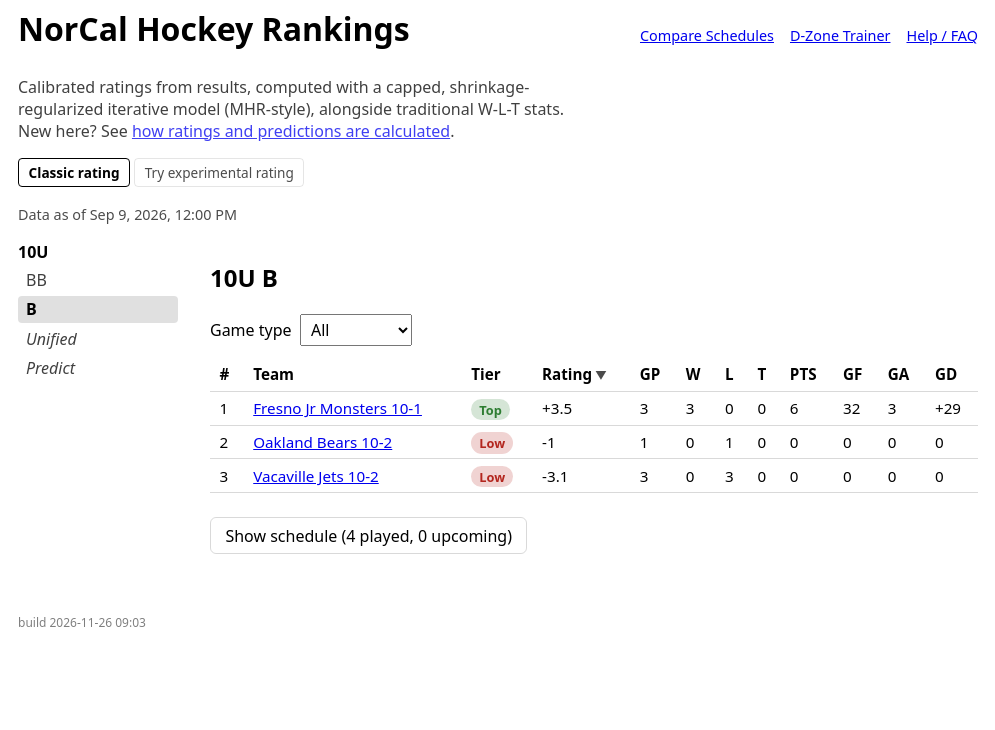
Test: App › keeps the rating mode toggle site-wide when navigating between divisions
Expected: the link "Fresno Jr Monsters 10-1" is shown, [253,398,422,418]
Click the button "Try experimental rating" at point(219, 172), box [134,158,304,187]
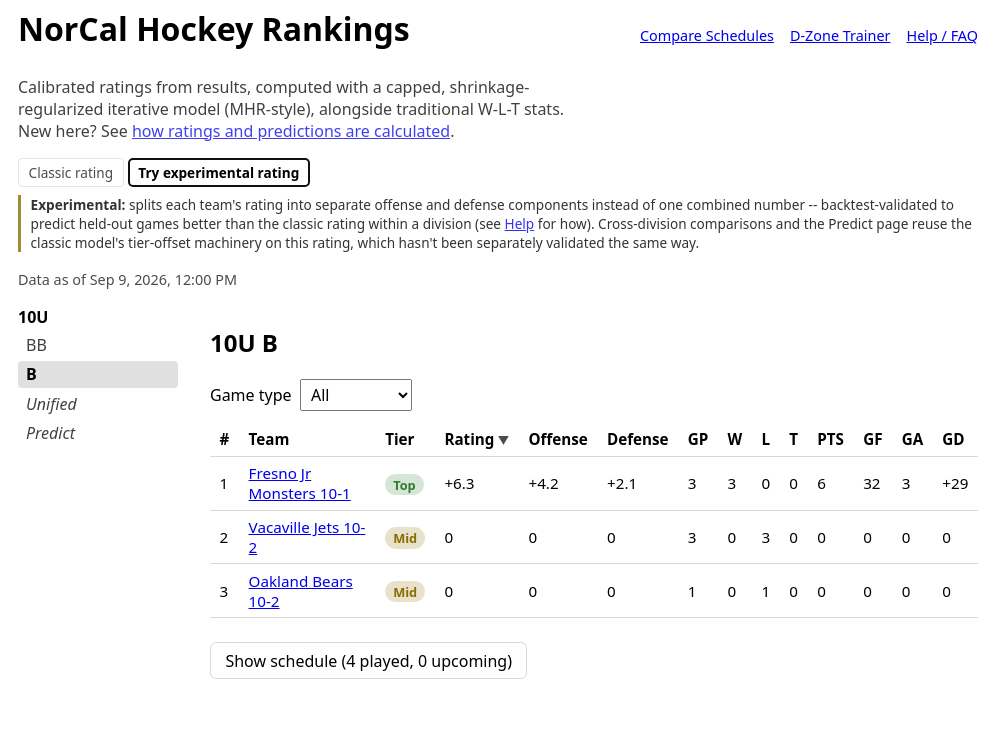
Expected: the number of buttons "Try experimental rating" is 1, [128,158,310,187]
Now the button "Offense" is shown, box [528,430,588,450]
Click the link "BB" at point(36, 345), box [26,334,47,356]
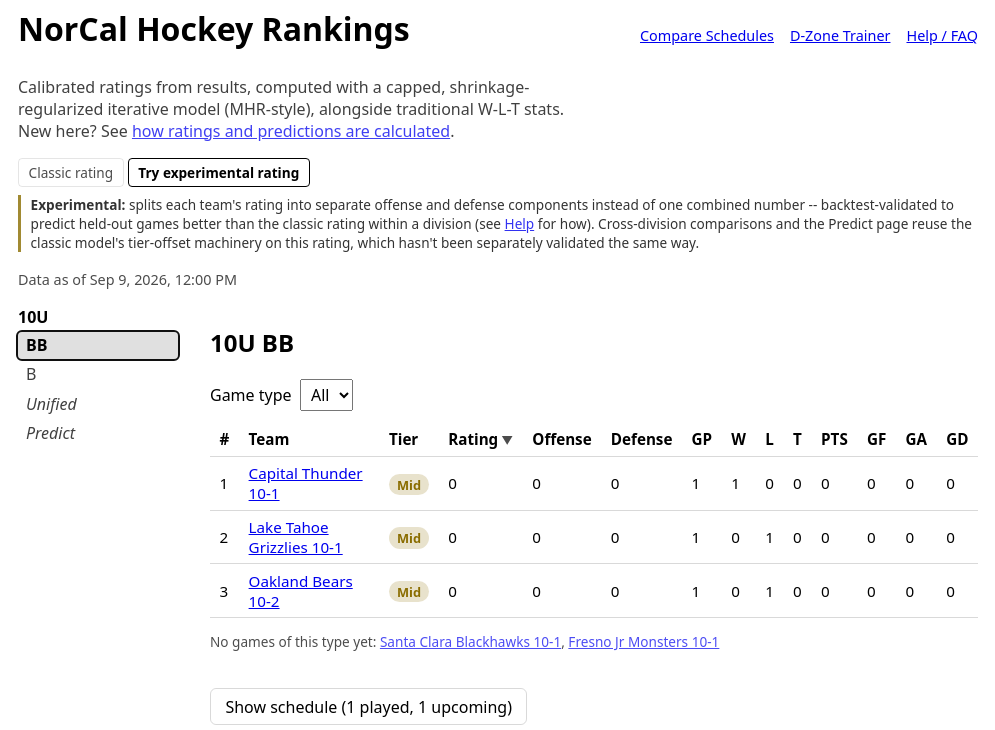
Now the button "Offense" is shown, box [532,430,592,450]
Now the heading "10U BB" is shown, box [210,326,294,359]
